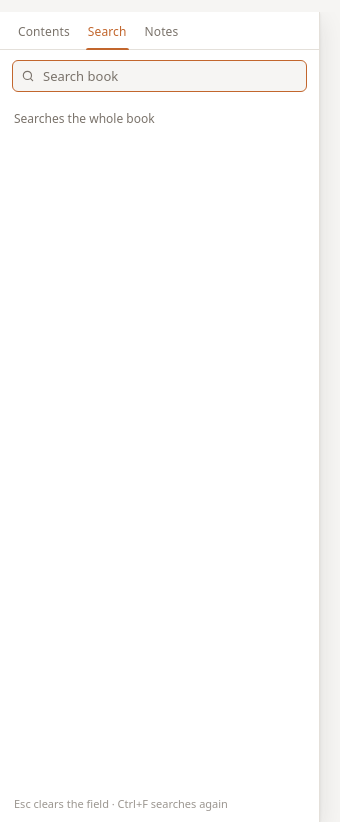
Test: SearchPanel › the clear button empties the input and drops the results
Type "monster" into the search field with placeholder "Search book" at (160, 76), box [12,60,307,92]
Wait 150 ms
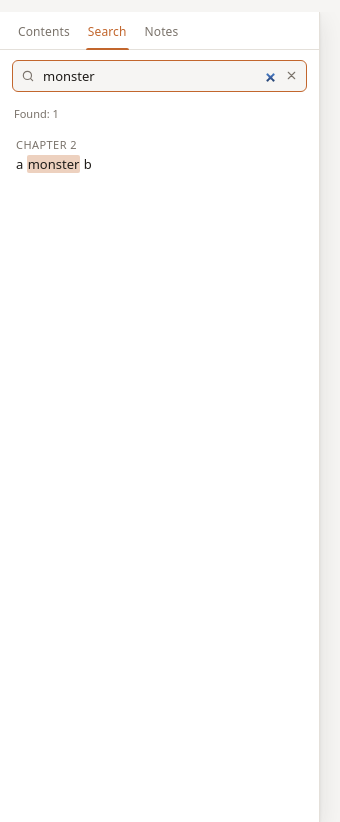
Result: the text "Found: 1" is shown at [14,106,59,121]
Click the button named "Clear" at (291, 75), box [280,64,302,86]
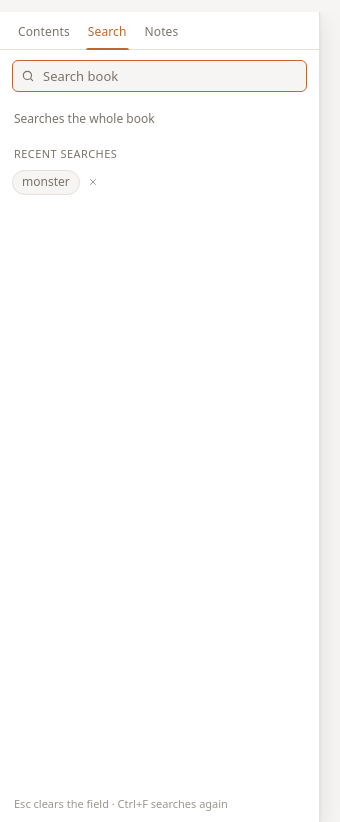
Result: the search field with placeholder "Search book" is empty at [12,60,307,92]
Result: the text "Found: 1" is gone
